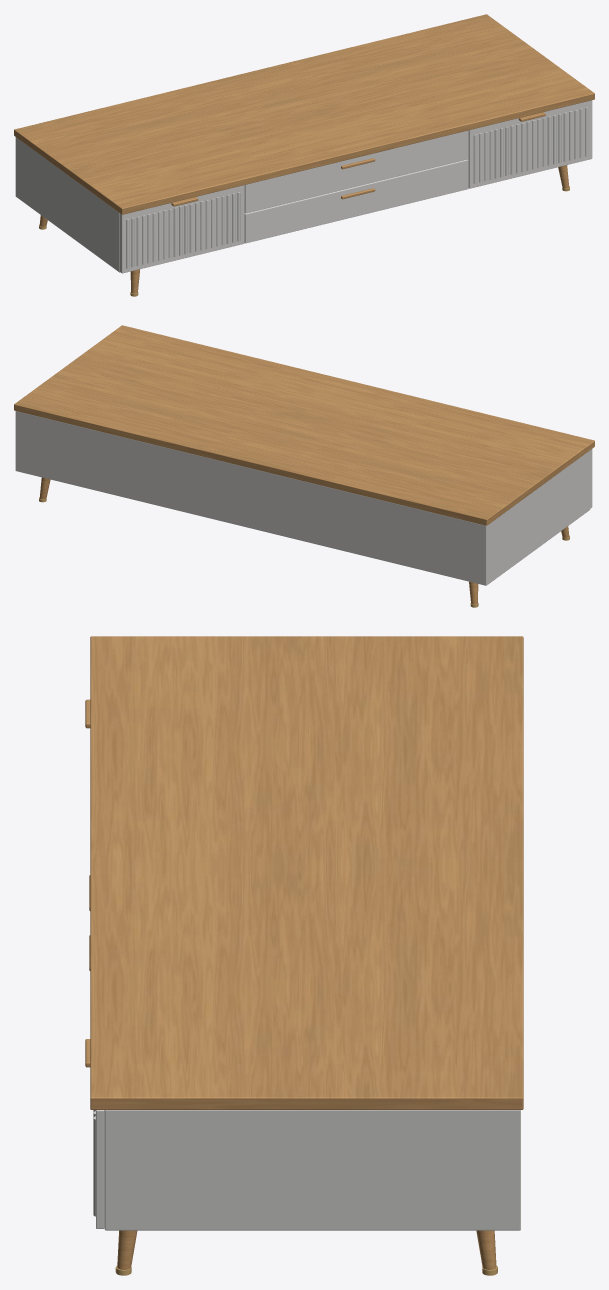
Rendered from tv_stand_2.glb.
3 renders of one model, top to bottom at view 1: azimuth 30°, elevation 25°; view 2: azimuth 150°, elevation 25°; view 3: azimuth 270°, elevation 25°, orthographic. The views are drawn at different scales.
Parts seen in each view (by area): view 1: tv_stand_2_top, tv_stand_2_fronts, tv_stand_2_flutes, tv_stand_2_carcass, tv_stand_2_pulls, tv_stand_2_legs; view 2: tv_stand_2_top, tv_stand_2_carcass, tv_stand_2_legs; view 3: tv_stand_2_top, tv_stand_2_carcass, tv_stand_2_legs, tv_stand_2_fronts.
Part boxes in pixels (x1=…): tv_stand_2_top: x1=14, y1=14, x2=594, y2=214; tv_stand_2_fronts: x1=120, y1=100, x2=592, y2=273; tv_stand_2_flutes: x1=126, y1=107, x2=588, y2=268; tv_stand_2_carcass: x1=15, y1=137, x2=120, y2=272; tv_stand_2_pulls: x1=171, y1=112, x2=545, y2=206; tv_stand_2_legs: x1=39, y1=165, x2=569, y2=296; tv_stand_2_top: x1=14, y1=325, x2=594, y2=525; tv_stand_2_carcass: x1=15, y1=411, x2=590, y2=585; tv_stand_2_legs: x1=39, y1=477, x2=569, y2=607; tv_stand_2_top: x1=90, y1=636, x2=523, y2=1109; tv_stand_2_carcass: x1=104, y1=1110, x2=520, y2=1230; tv_stand_2_legs: x1=115, y1=1230, x2=497, y2=1275; tv_stand_2_fronts: x1=96, y1=1110, x2=104, y2=1228.
Size of the model in its own units: 2.29 by 0.45 by 0.916.
3 materials, 1 textured.
